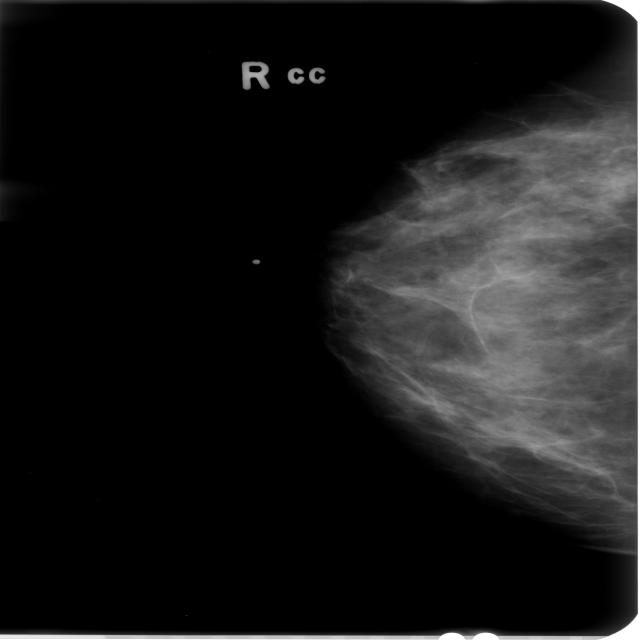cancer: (392, 130, 624, 509)
